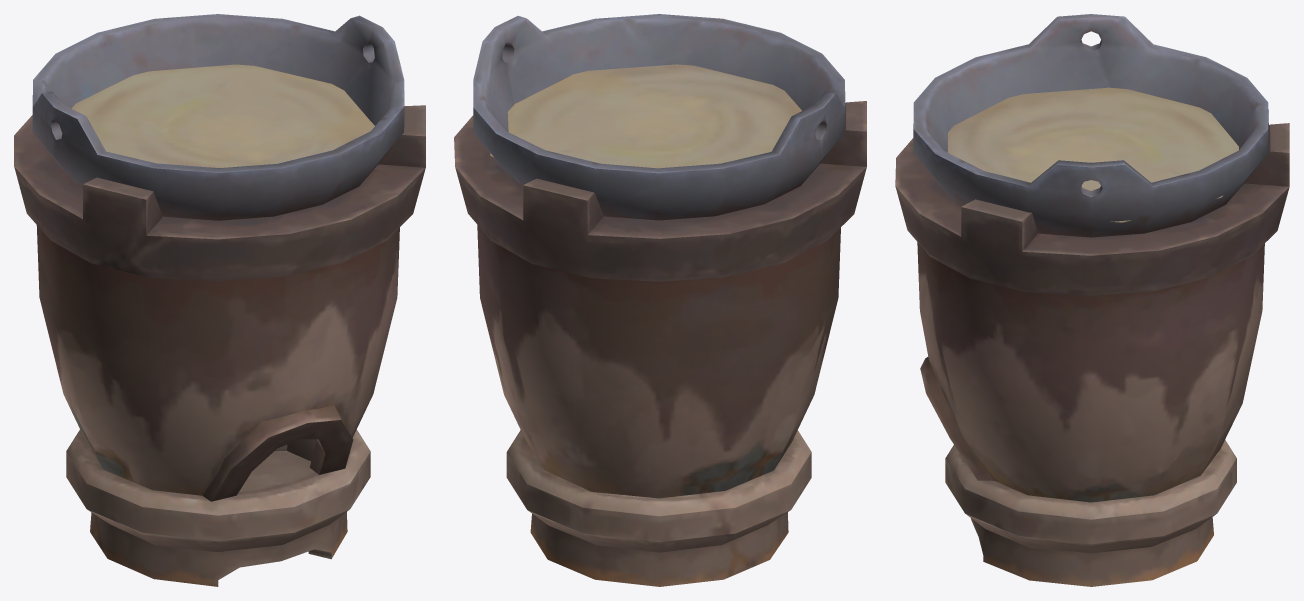
The model's file is Homeworld_Interior_Md_Table_Cooking_02_Vo.fbx.
3 views of the same model, side by side, from view 1: azimuth 30°, elevation 25°; view 2: azimuth 150°, elevation 25°; view 3: azimuth 270°, elevation 25° (orthographic). The views are drawn at different scales.
Parts seen in each view (by area): view 1: Property_Ani_Prop_Griller_01_Vo; view 2: Property_Ani_Prop_Griller_01_Vo; view 3: Property_Ani_Prop_Griller_01_Vo.
Part boxes in pixels (x1,y1,x2,y2): Property_Ani_Prop_Griller_01_Vo: [14, 14, 425, 586]; Property_Ani_Prop_Griller_01_Vo: [454, 14, 866, 586]; Property_Ani_Prop_Griller_01_Vo: [895, 14, 1289, 586].
Bounding box in the file's own units: 0.7319 × 0.9054 × 0.7279.
